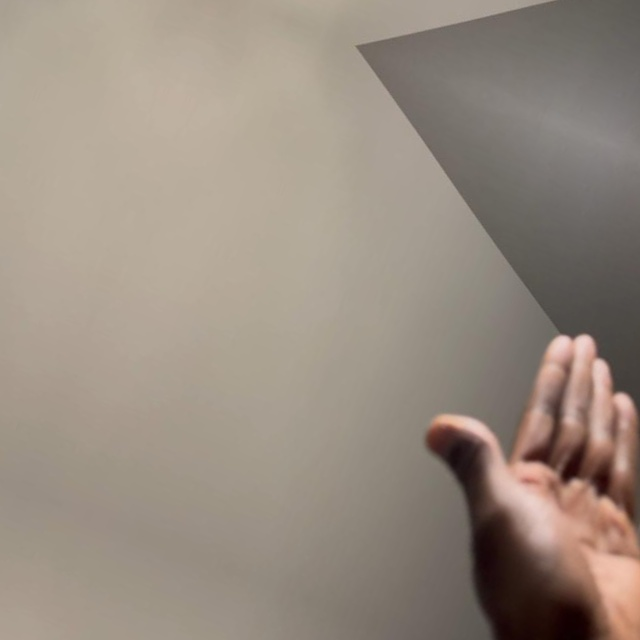Paper: (227, 633, 618, 640)
